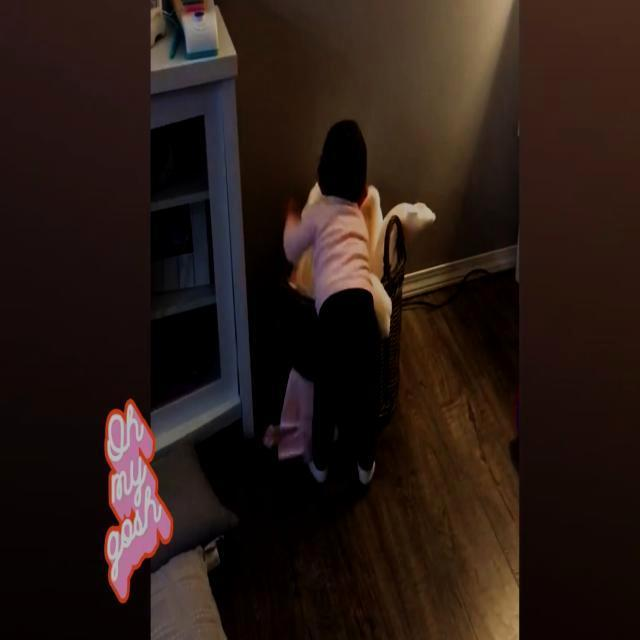child: (281, 113, 381, 502)
